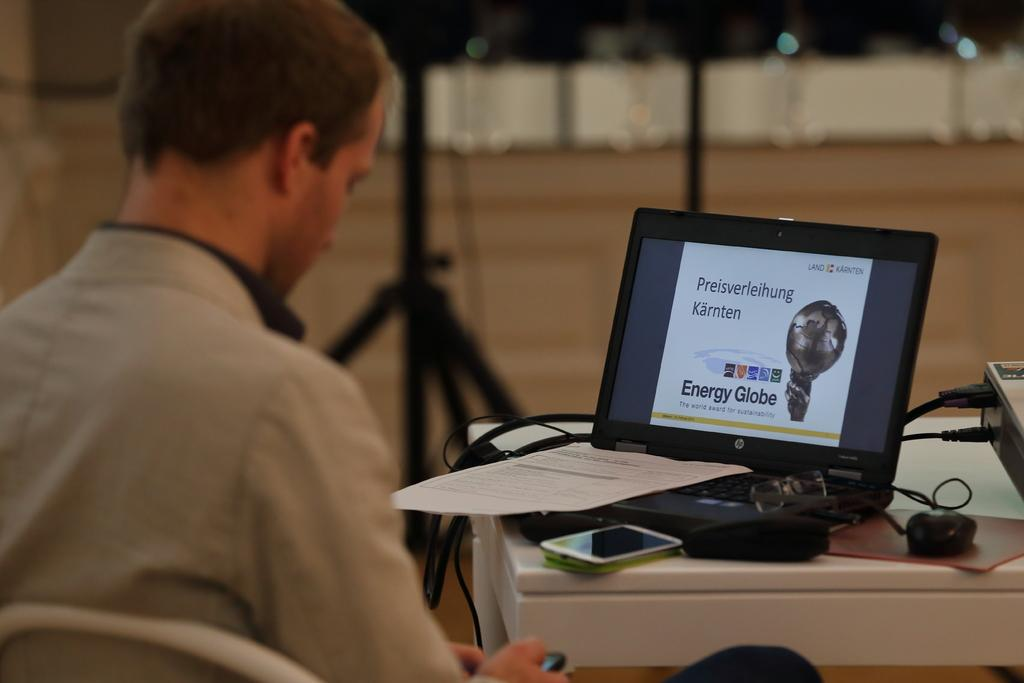Laptop: (491, 244, 939, 582)
